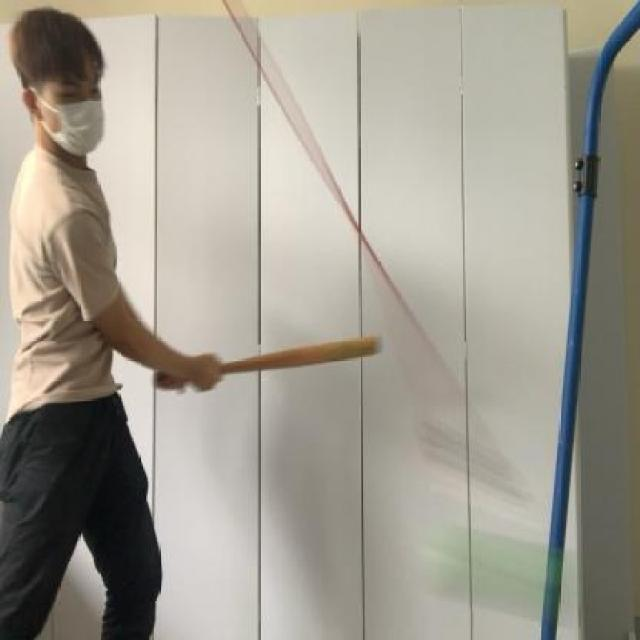baseball: (426, 524, 594, 628)
